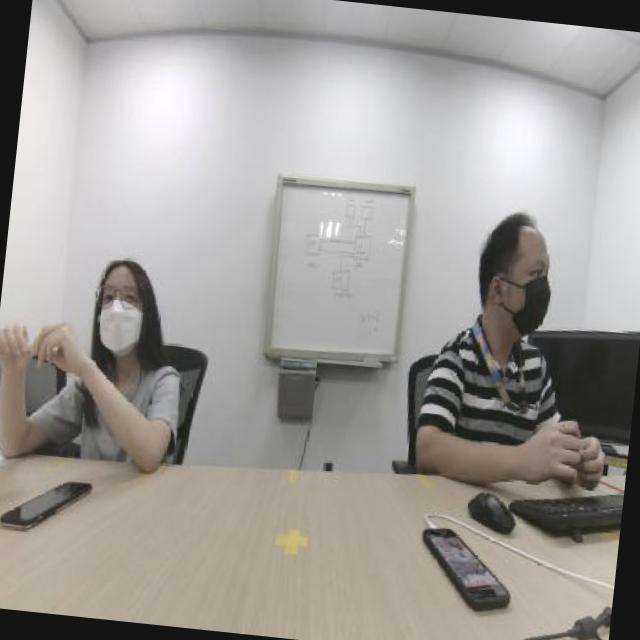Person: (12, 137, 210, 454), (428, 168, 588, 460)
